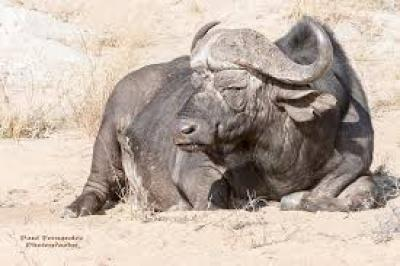buffalo: (65, 17, 396, 218)
